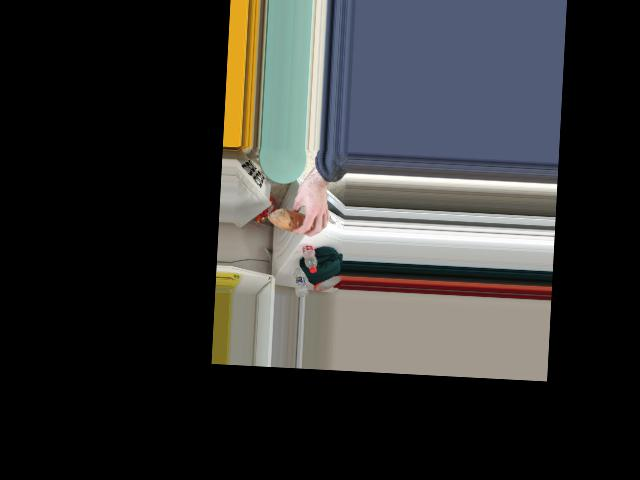sweet_potato: (276, 213, 310, 230)
